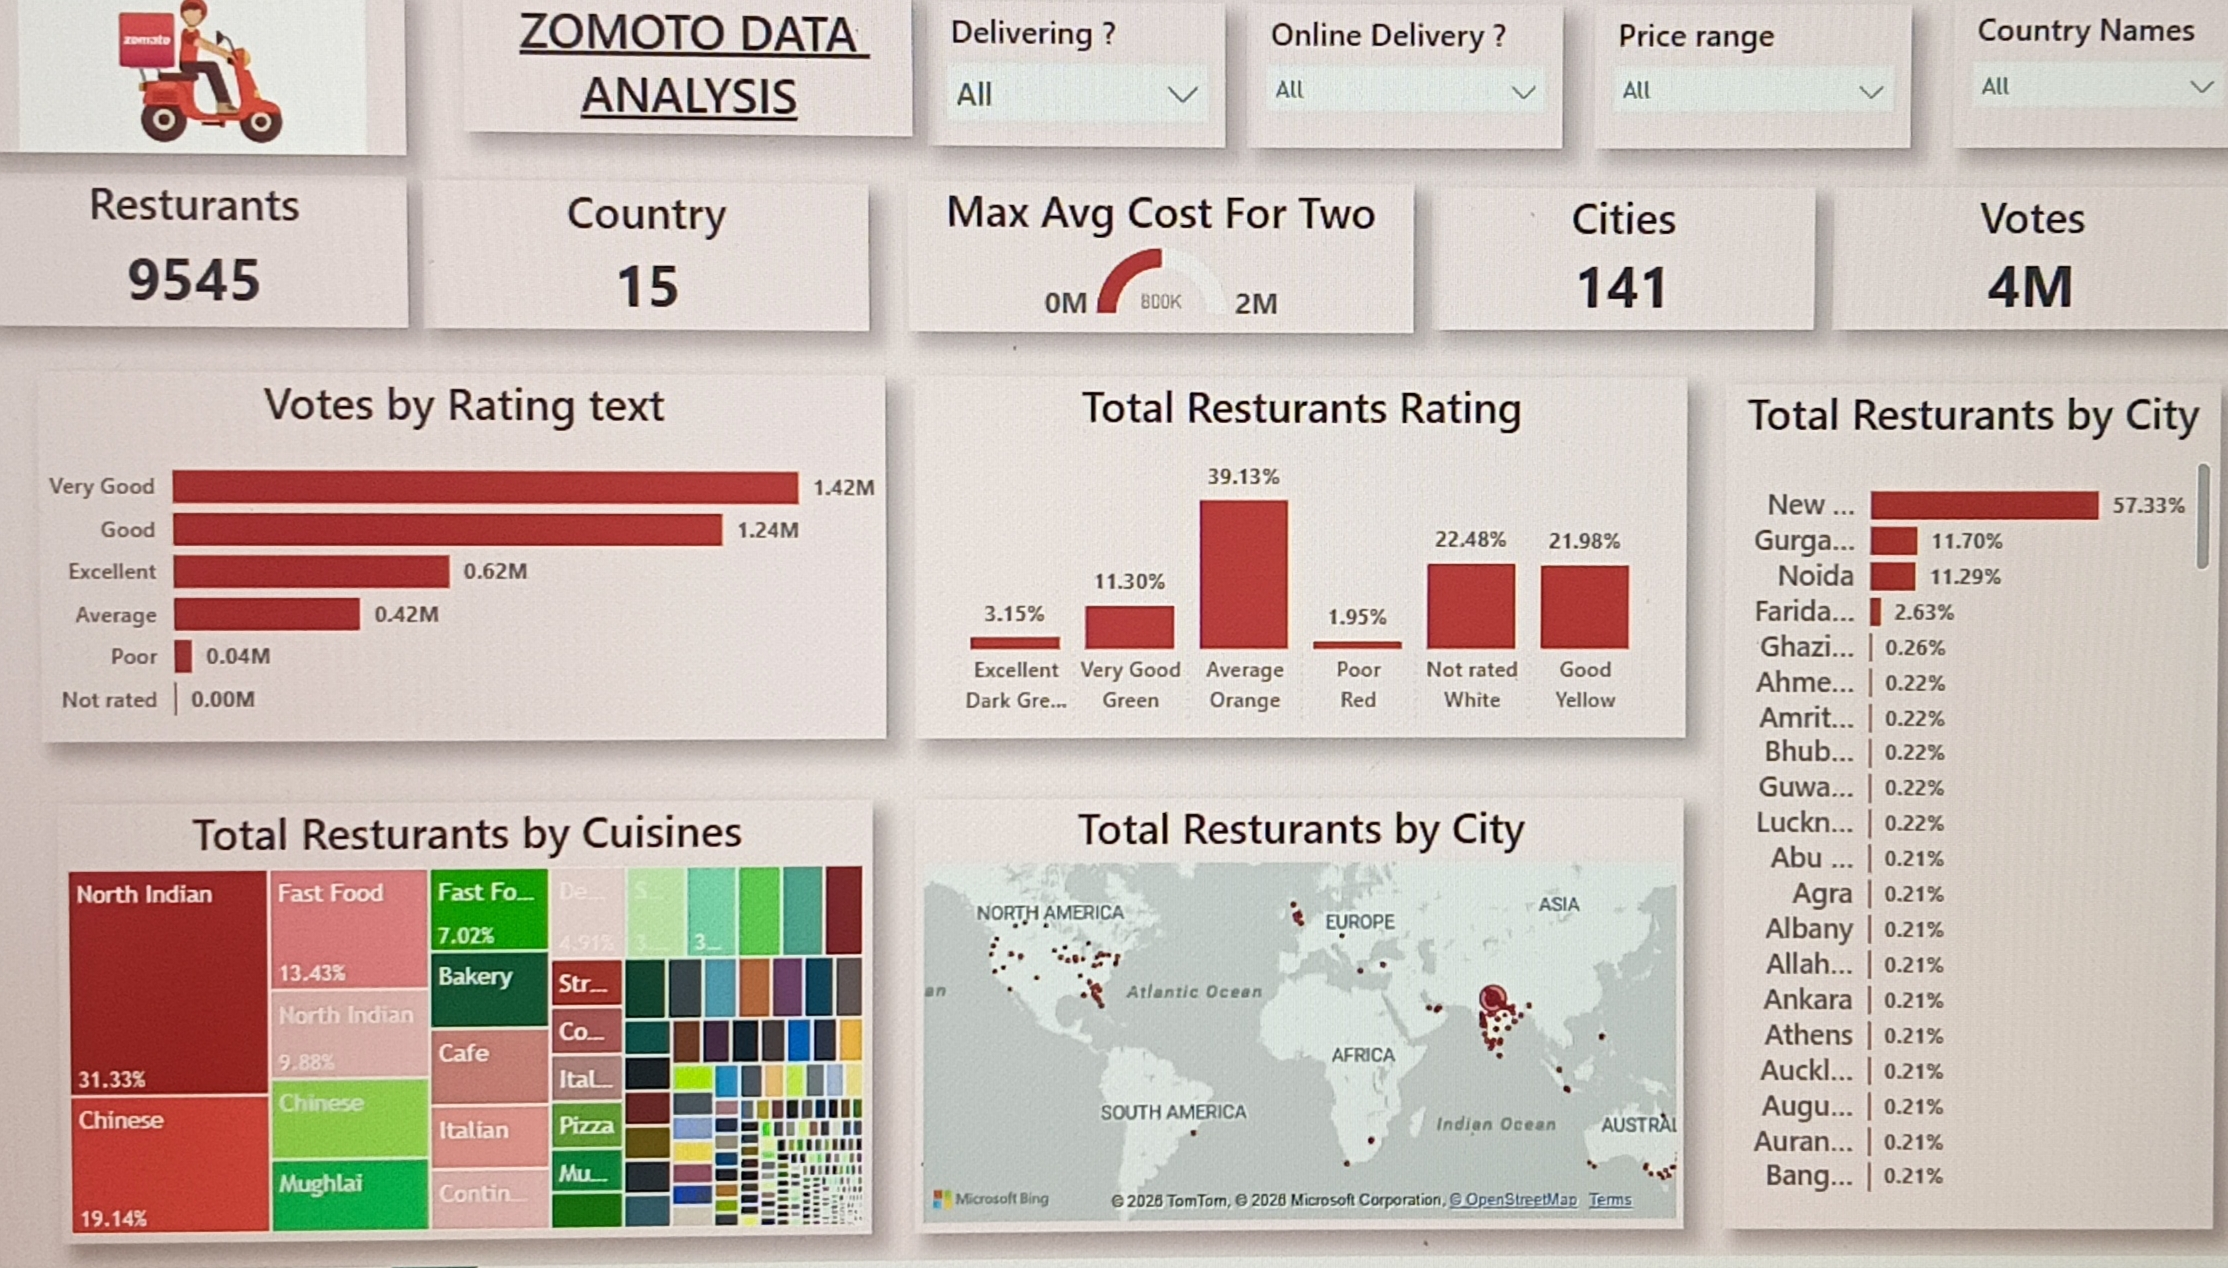

The dashboard page shown, as its layout file describes it:
{"tool":"powerbi","page":{"name":"Zomoto Sales Analysis Dashboard","canvas":[1280,720],"ordinal":0},"visuals":[{"type":"slicer","fields":{"Values":["zomato.Country Names"]},"box":[1105,6.2,162.5,82.5],"z":0},{"type":"slicer","fields":{"Values":["zomato.Price range"]},"box":[902.5,8.8,178.8,80],"z":1000},{"type":"slicer","fields":{"Values":["zomato.Has Online delivery"]},"box":[706.2,8.8,178.8,80],"z":2000},{"type":"slicer","fields":{"Values":["zomato.Is delivering now"]},"box":[526.2,8.8,167.5,80],"z":3000},{"type":"card","title":"Resturants","fields":{"Values":["zomato.Total Resturants"]},"box":[7.5,108.8,231.2,83.8],"z":4000},{"type":"card","title":"Country","fields":{"Values":["zomato.Total Country"]},"box":[247.5,111.2,245,82.5],"z":5000},{"type":"card","title":"Cities","fields":{"Values":["zomato.Total Cities"]},"box":[811.2,111.2,217.5,80],"z":6000},{"type":"card","title":"Votes","fields":{"Values":["Sum(zomato.Votes)"]},"box":[1038.8,111.2,223.8,80],"z":7000},{"type":"clusteredBarChart","title":" Total Resturants by City","fields":{"Category":["zomato.City"],"Y":["zomato.Total Resturants"]},"box":[978.8,222.5,280,482.5],"z":8000},{"type":"treemap","title":" Total Resturants by Cuisines","fields":{"Group":["zomato.Cuisines"],"Values":["zomato.Total Resturants"]},"box":[45,458.8,448.8,246.2],"z":9000},{"type":"map","fields":{"Category":["zomato.City"],"Size":["zomato.Total Resturants"]},"box":[517.5,458.8,438.8,246.2],"z":10000},{"type":"columnChart","title":"Total Resturants  Rating ","fields":{"Category":["zomato.Rating color","zomato.Rating text"],"Y":["zomato.Total Resturants"]},"box":[517.3,218.2,439.1,205.8],"z":11000},{"type":"clusteredBarChart","title":"Votes by Rating text","fields":{"Category":["zomato.Rating text"],"Y":["Sum(zomato.Votes)"]},"box":[35.7,218.2,465.2,205.8],"z":12000},{"type":"gauge","title":"Max Avg Cost For Two","fields":{"Y":["Max(zomato.Average Cost for two)"]},"box":[513.8,108.8,286.2,83.8],"z":13000},{"type":"image","box":[7.5,3.8,231.2,93.8],"z":14000},{"type":"textbox","box":[270,3.8,247.5,80],"z":15000}]}

Visuals, with their boxes in screenshot pixels (x1, y1, x2, y2), scaled from the page's 1280x720 canvas onto the 2228x1268 screenshot:
slicer - zomato.Country Names: 1923:11:2206:156
slicer - zomato.Price range: 1571:15:1882:156
slicer - zomato.Has Online delivery: 1229:15:1540:156
slicer - zomato.Is delivering now: 916:15:1207:156
"Resturants" card: 13:192:415:339
"Country" card: 431:196:857:341
"Cities" card: 1412:196:1791:337
"Votes" card: 1808:196:2198:337
" Total Resturants by City" clusteredBarChart: 1704:392:2191:1242
" Total Resturants by Cuisines" treemap: 78:808:860:1242
map - zomato.City x zomato.Total Resturants: 901:808:1665:1242
"Total Resturants  Rating " columnChart: 900:384:1665:747
"Votes by Rating text" clusteredBarChart: 62:384:872:747
"Max Avg Cost For Two" gauge: 894:192:1392:339
image: 13:7:415:172
textbox: 470:7:901:148
